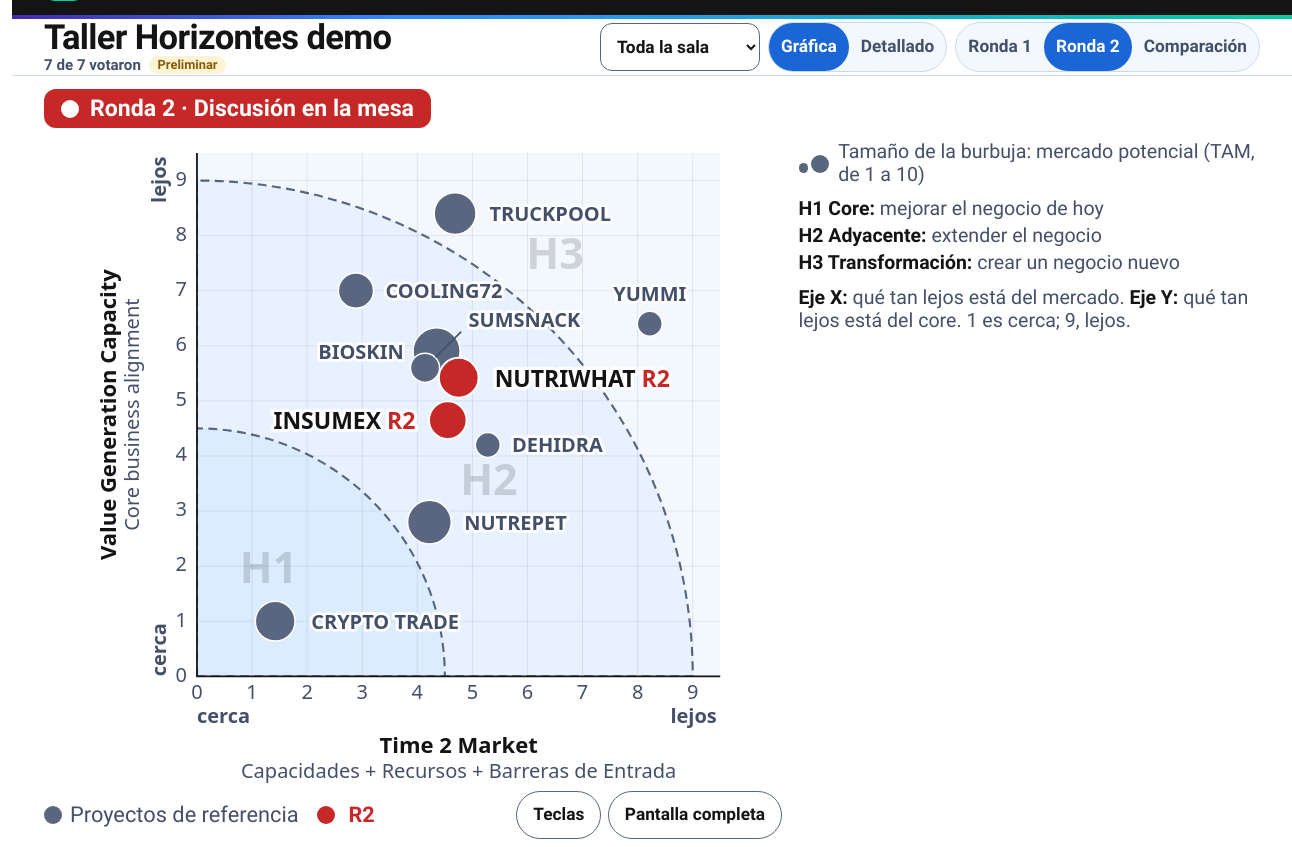
PaginaTablero › «Cómo votó»: el botón o la tecla V cambian la tabla por el conteo 1-3-5-7-9, sin tapar la matriz
Expected: the heading "Taller Horizontes demo" is shown, [44,19,392,57]
Press d
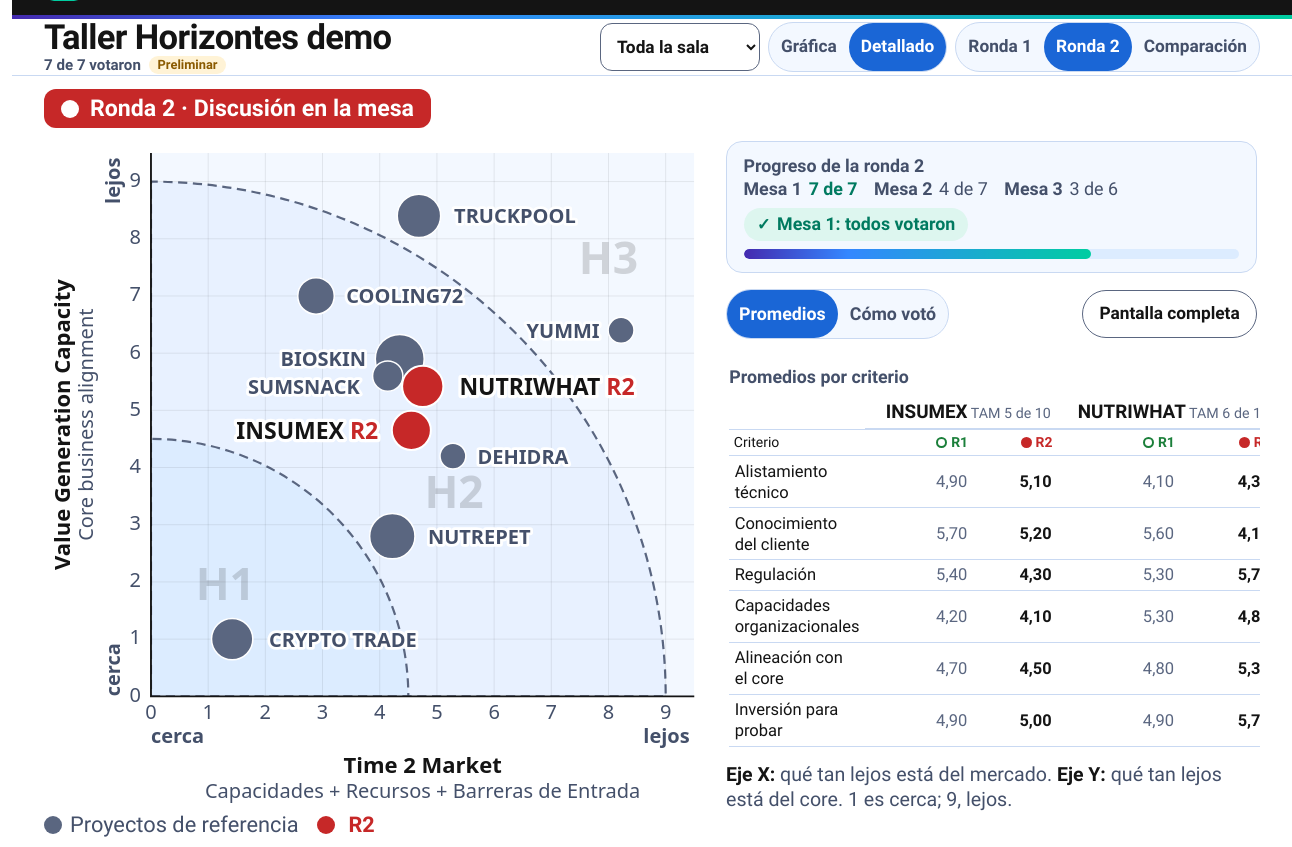
Expected: the heading "Cómo votó la mesa" is not shown
Expected: the element with class "hz-lateral" is shown, [726,141,1260,839]
Click the button "Cómo votó" at (893, 314), box [838,290,948,338]
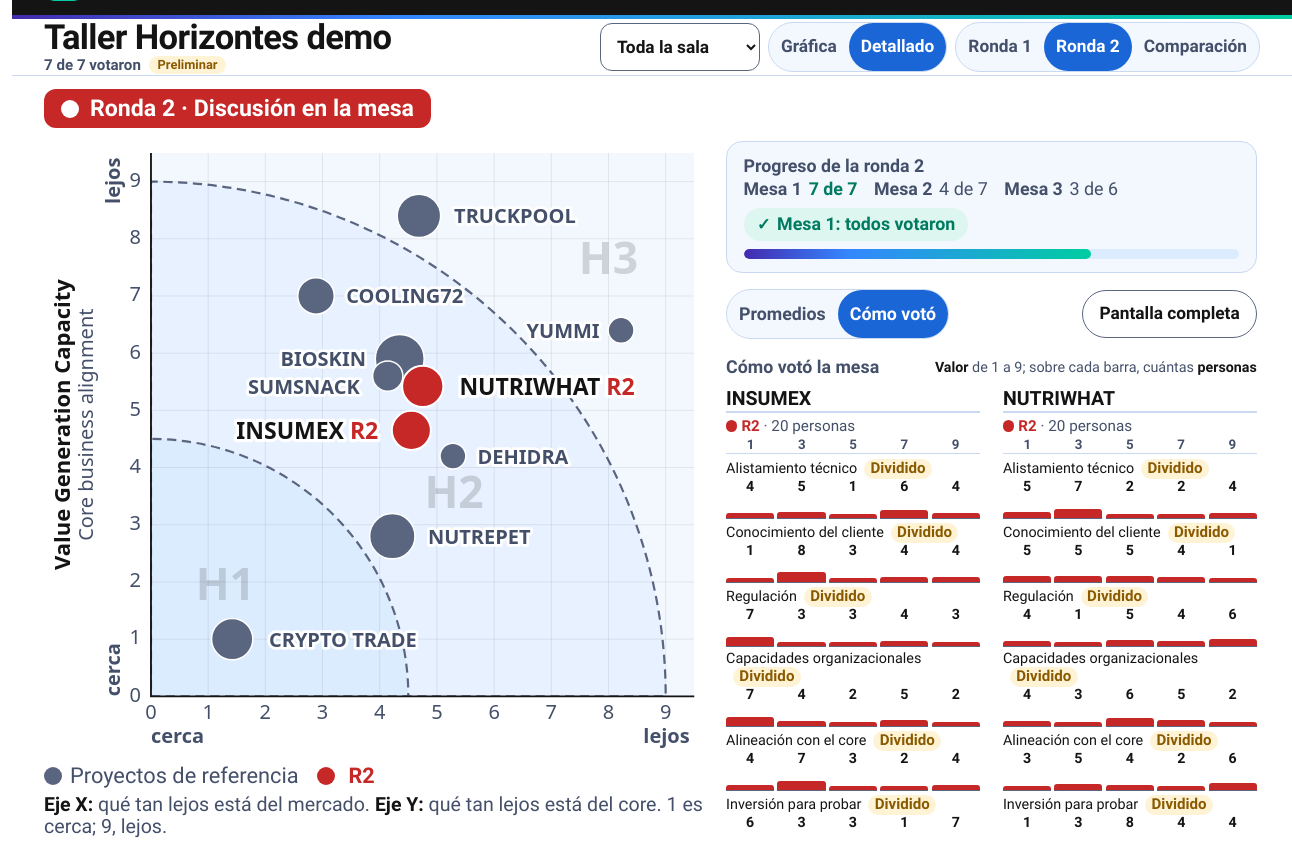
Expected: the heading "Cómo votó la mesa" is shown, [726,356,879,379]
Expected: the element with class "hz-comparada" is gone
Expected: the number of pictures with class "hz-cv-barras-r2" is 12
Press c
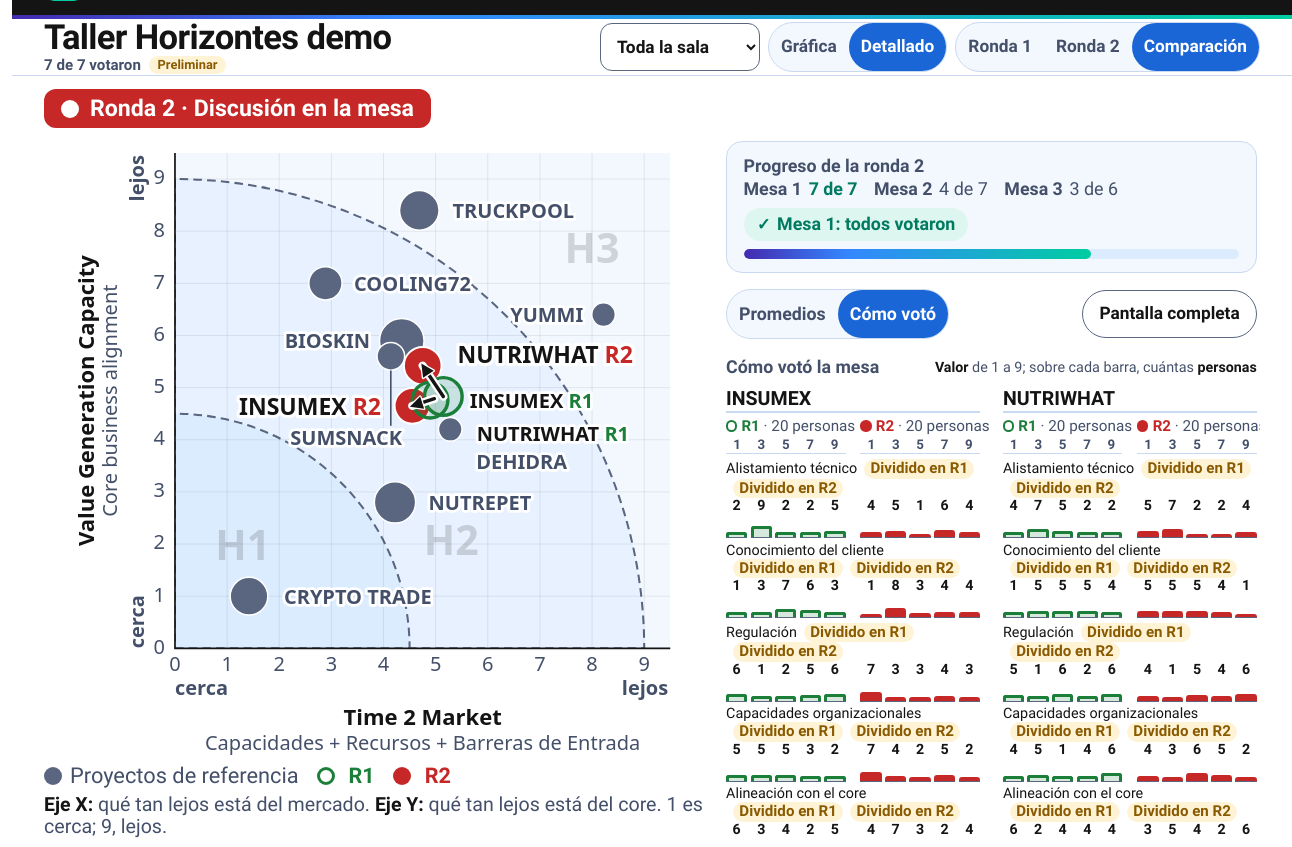
Press v
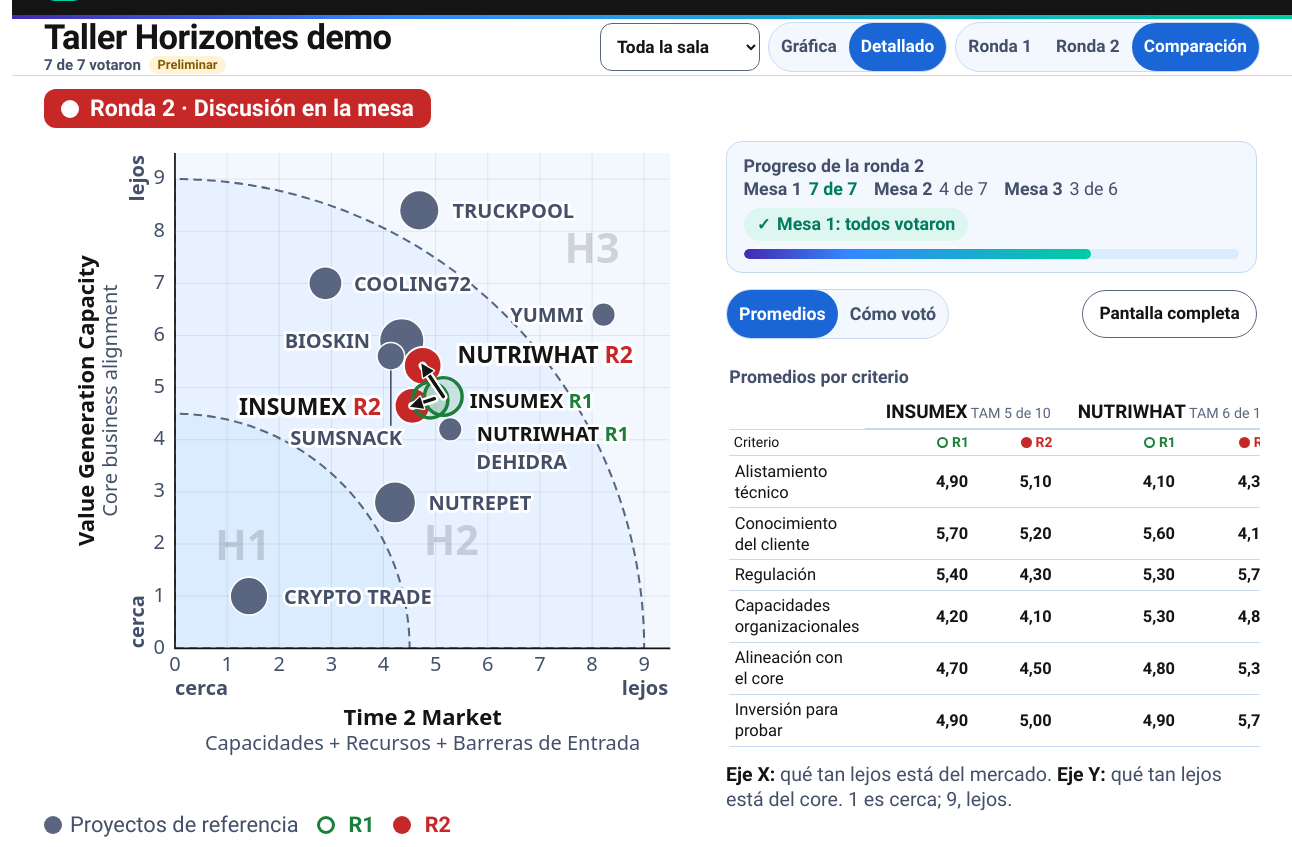
Expected: the element with class "hz-comparada" is shown, [726,356,1257,747]
Press V
(page scrolled)
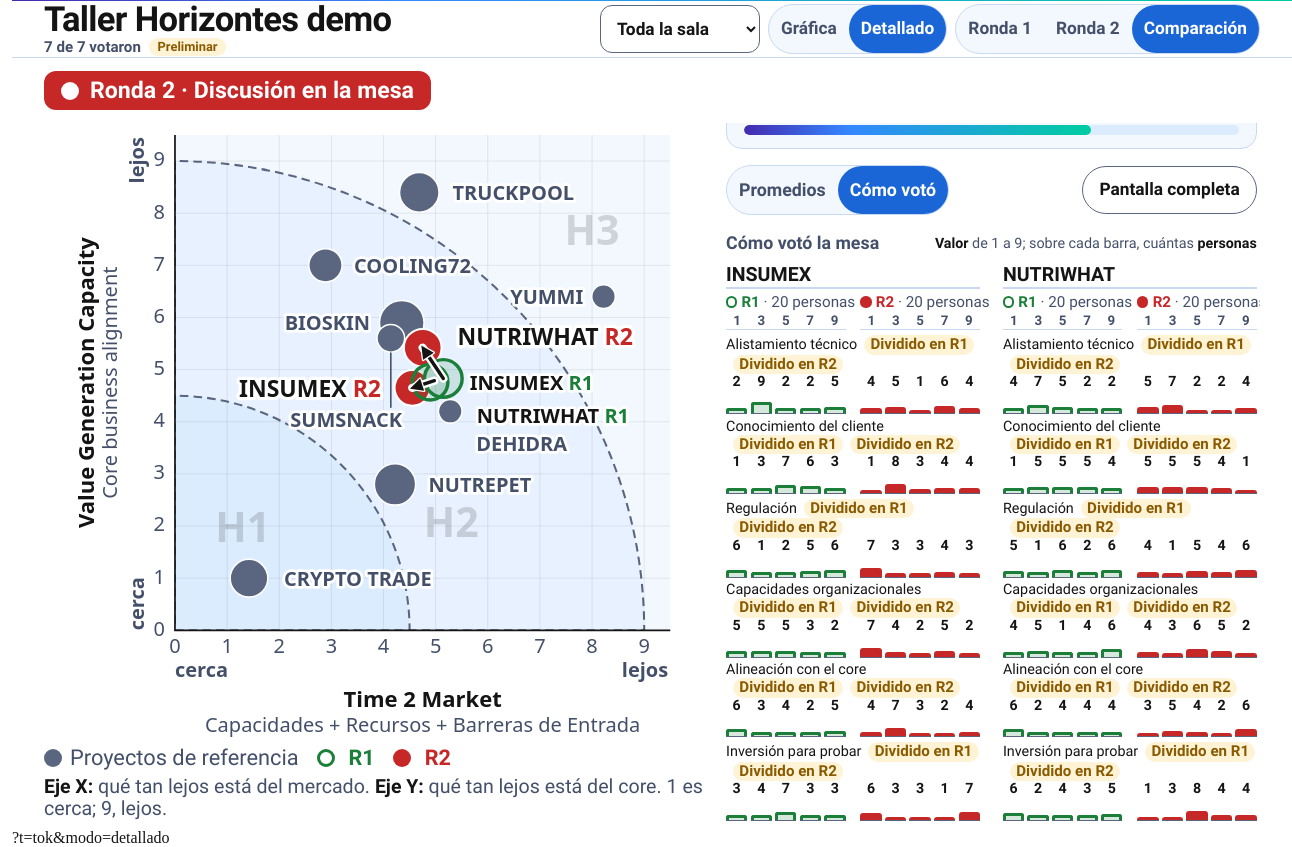
Expected: the element with class "hz-cv" is shown, [726,232,1257,821]
